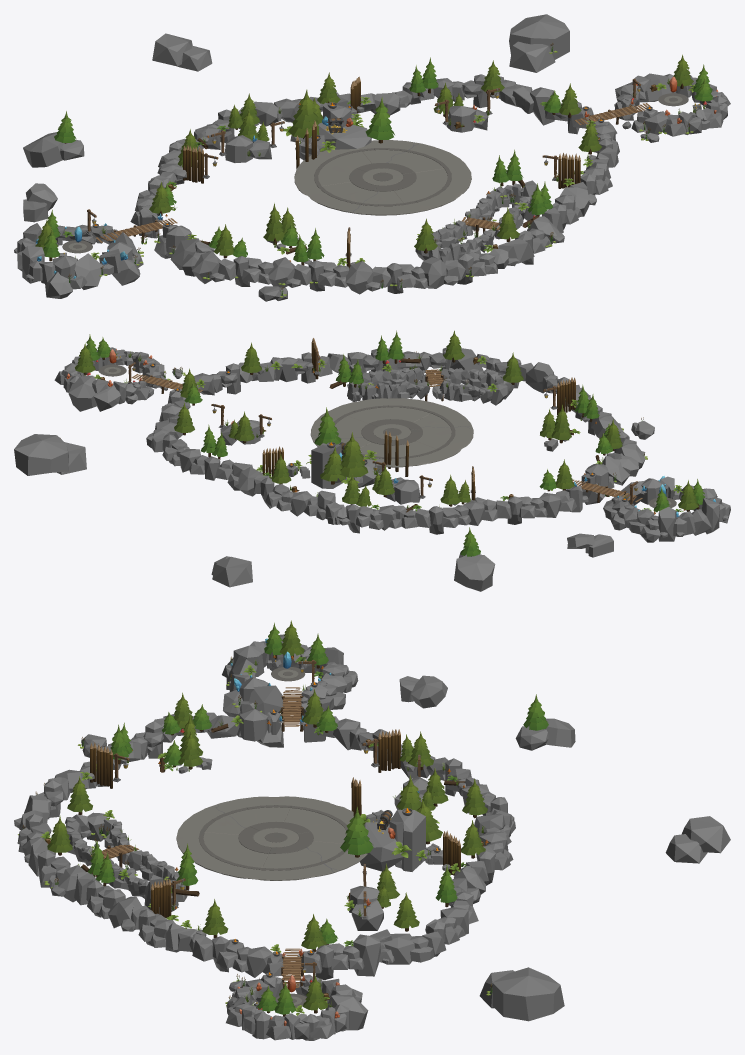
The model's file is ZenithObject3.fbx.
The picture shows the model from 3 angles, top to bottom: view 1: azimuth 30°, elevation 25°; view 2: azimuth 150°, elevation 25°; view 3: azimuth 270°, elevation 25°; orthographic projection. The views are drawn at different scales.
Parts seen in each view (by area): view 1: Arena_01, Rock_05__2__2, Rock_02__2__2, Rock_05_2, Rock_02_2, Rock_04__24_, Tree_02__13_, Tree_01__16_, Rock_02__69_, Rock_05__5_, Rock_05__22_, Rock_05__24_ (+13 smaller); view 2: Arena_01, Rock_05__2__2, Rock_05_2, Rock_02_2, Rock_03__24_, Tree_02__13_, Rock_05__8__1, Rock_05__22_, Tree_01__16_, Rock_02__2__2, Rock_04__12__1, Rock_05__6_ (+6 smaller); view 3: Arena_01, Rock_05__2__2, Rock_03__24_, Rock_04__24_, Rock_02_2, Tree_01__16_, Rock_05__1__2, Rock_01__20_, Rock_02__1__2, Rock_05__3_, Rock_05__8__1, Rock_02__65_ (+3 smaller).
Part boxes in pixels (left/top/right/bottom): Arena_01: left=294, top=140, right=471, bottom=215; Rock_05__2__2: left=509, top=14, right=569, bottom=59; Rock_02__2__2: left=509, top=41, right=555, bottom=72; Rock_05_2: left=23, top=132, right=64, bottom=167; Rock_02_2: left=152, top=33, right=192, bottom=66; Rock_04__24_: left=318, top=122, right=371, bottom=149; Tree_02__13_: left=288, top=89, right=319, bottom=138; Tree_01__16_: left=365, top=97, right=394, bottom=143; Rock_02__69_: left=74, top=253, right=102, bottom=289; Rock_05__5_: left=345, top=261, right=373, bottom=294; Rock_05__22_: left=225, top=135, right=252, bottom=162; Rock_05__24_: left=446, top=106, right=476, bottom=132; Arena_01: left=310, top=398, right=473, bottom=467; Rock_05__2__2: left=14, top=434, right=68, bottom=475; Rock_05_2: left=454, top=554, right=495, bottom=591; Rock_02_2: left=212, top=556, right=252, bottom=587; Rock_03__24_: left=311, top=443, right=342, bottom=488; Tree_02__13_: left=339, top=432, right=368, bottom=477; Rock_05__8__1: left=68, top=375, right=96, bottom=411; Rock_05__22_: left=394, top=479, right=420, bottom=504; Tree_01__16_: left=314, top=407, right=341, bottom=445; Rock_02__2__2: left=56, top=442, right=86, bottom=474; Rock_04__12__1: left=658, top=506, right=676, bottom=541; Rock_05__6_: left=525, top=362, right=554, bottom=393; Arena_01: left=176, top=796, right=367, bottom=880; Rock_05__2__2: left=492, top=967, right=564, bottom=1021; Rock_03__24_: left=389, top=809, right=425, bottom=871; Rock_04__24_: left=360, top=822, right=403, bottom=871; Rock_02_2: left=682, top=816, right=730, bottom=853; Tree_01__16_: left=340, top=806, right=373, bottom=857; Rock_05__1__2: left=411, top=675, right=447, bottom=708; Rock_01__20_: left=353, top=934, right=380, bottom=976; Rock_02__1__2: left=665, top=834, right=707, bottom=863; Rock_05__3_: left=239, top=708, right=268, bottom=741; Rock_05__8__1: left=325, top=994, right=368, bottom=1030; Rock_02__65_: left=249, top=685, right=283, bottom=714.
Size of the model in its own units: 13441 by 1405 by 10501.
1 material, 1 textured.
